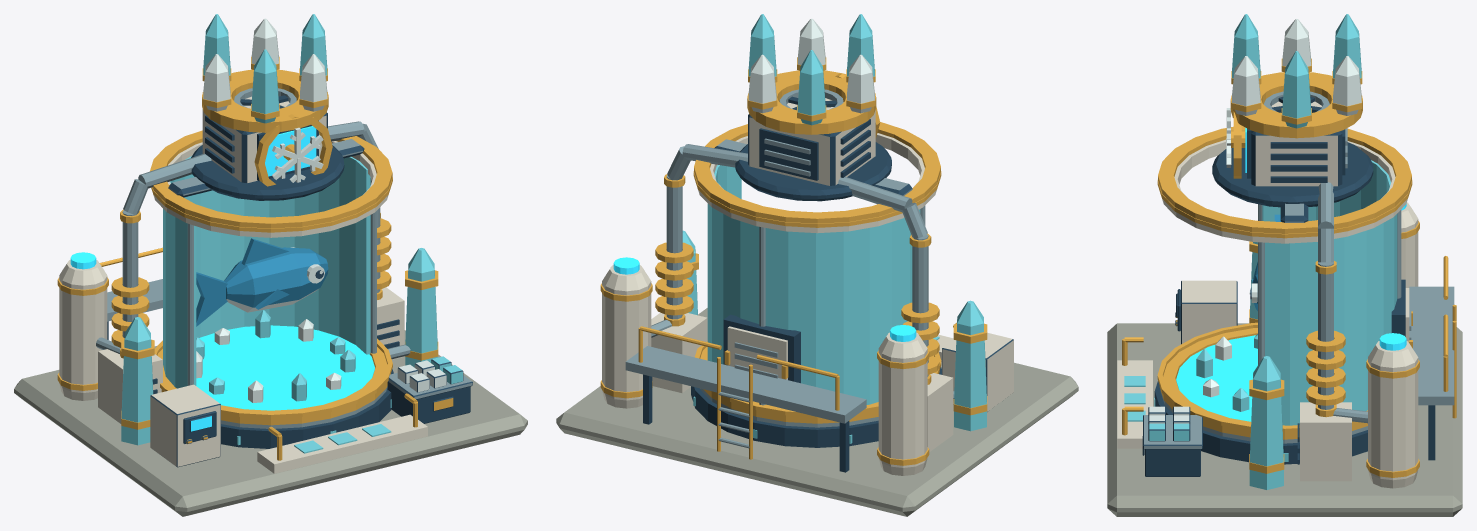
The model's file is freezer-lv4.glb.
The picture shows the model from 3 angles, left to right: view 1: azimuth 30°, elevation 25°; view 2: azimuth 150°, elevation 25°; view 3: azimuth 270°, elevation 25°; orthographic projection. The views are drawn at different scales.
Parts seen in each view (by area): view 1: Freezer_L4, Bluefin_Mascot.001, Polar_Snowflake, Forked_Tail.001; view 2: Freezer_L4; view 3: Freezer_L4.
Part boxes in pixels (x1,y1,x2,y2): Freezer_L4: [14, 14, 527, 516]; Bluefin_Mascot.001: [224, 238, 328, 312]; Polar_Snowflake: [272, 127, 323, 182]; Forked_Tail.001: [196, 272, 227, 326]; Freezer_L4: [556, 14, 1078, 516]; Freezer_L4: [1107, 14, 1462, 516].
Size of the model in its own units: 5.4 by 5.65 by 4.5.
